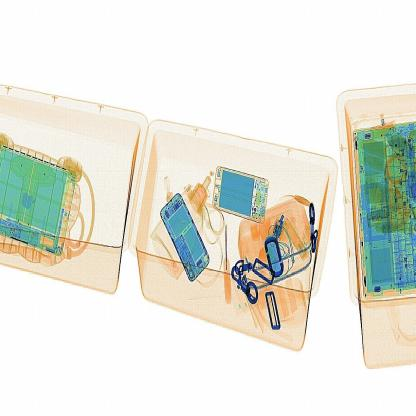wrench: (221, 224, 236, 306)
